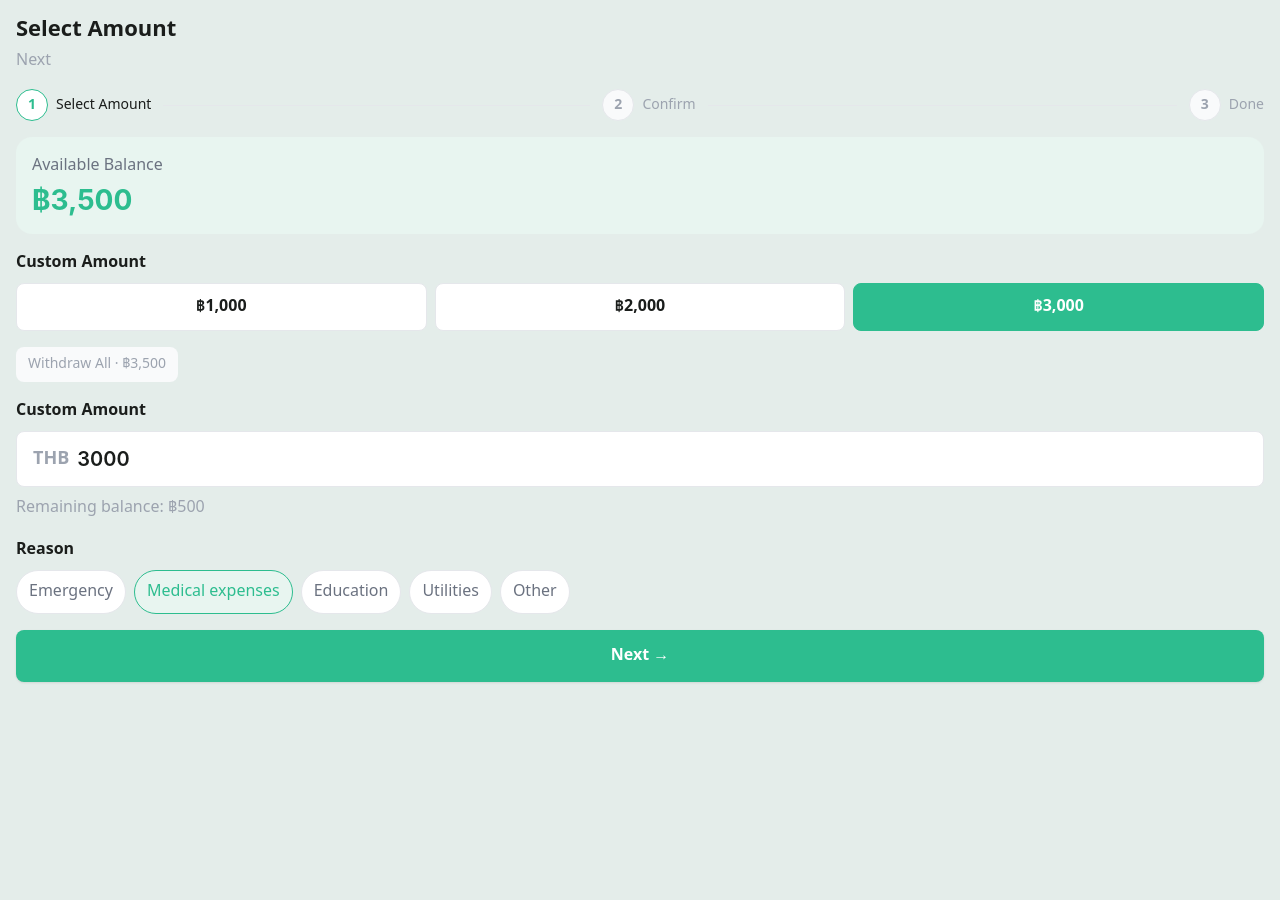
Scenario: EmployeeRequestPage — step 1 › withdraw all button sets amount to available balance
What coordinates should you click on to do the following:
click the button "Withdraw All · ฿3,500"
I would click on:
 (97, 364)
Its box is x1=16 y1=347 x2=178 y2=382.
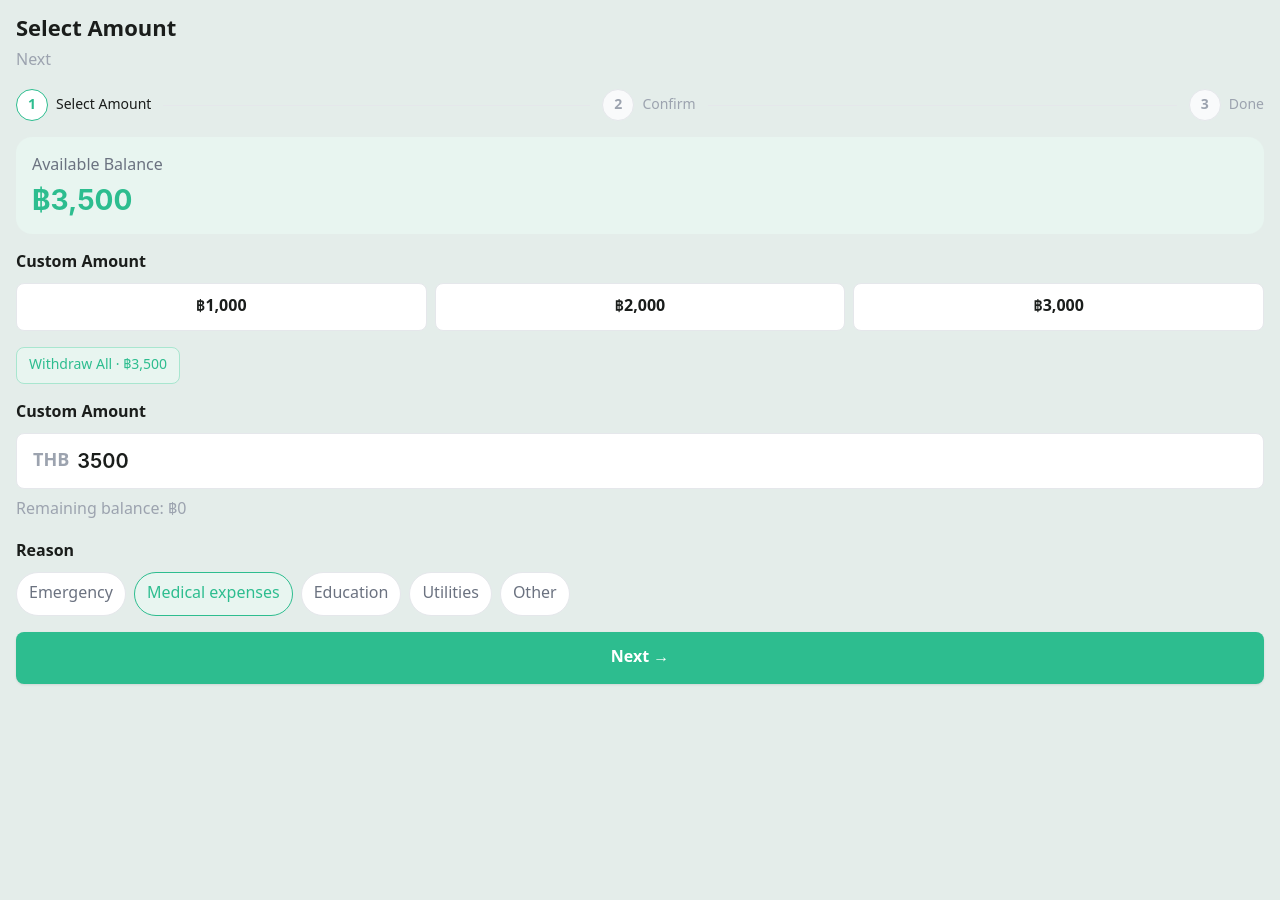
Expected: the number field holds "3500", x1=77 y1=445 x2=1247 y2=477
